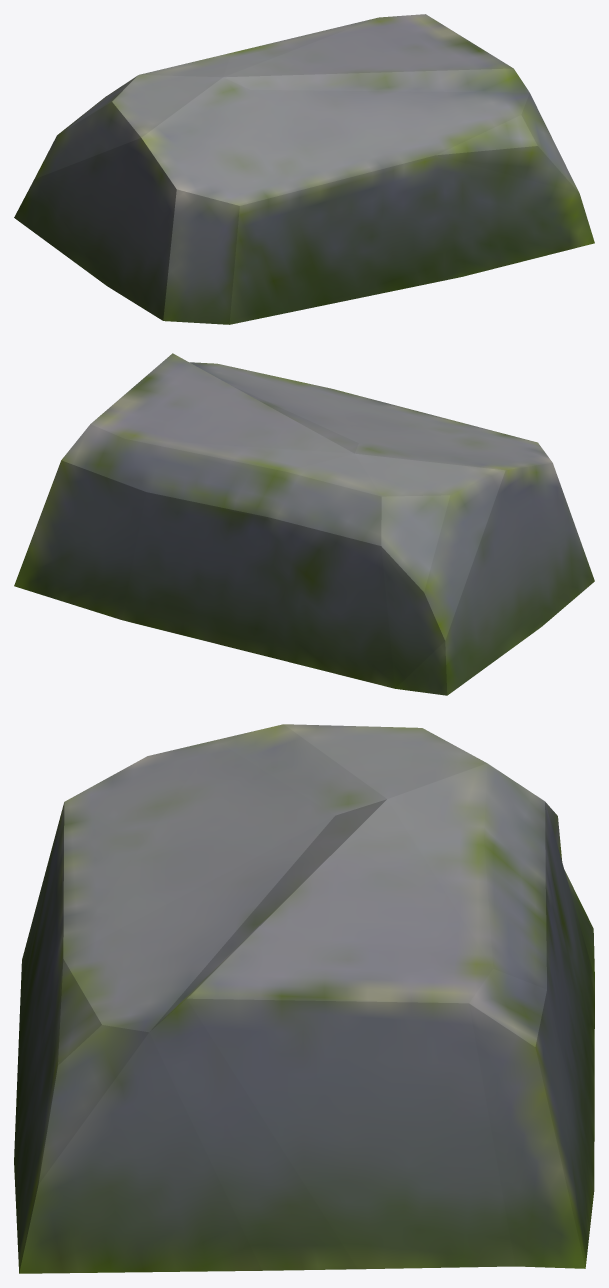
Rendered from pebble2.glb.
3 renders of one model, top to bottom at view 1: azimuth 30°, elevation 25°; view 2: azimuth 150°, elevation 25°; view 3: azimuth 270°, elevation 25°, orthographic. The views are drawn at different scales.
Visible parts, largest first — view 1: Pebble_Square_2; view 2: Pebble_Square_2; view 3: Pebble_Square_2.
Part boxes in pixels (bbox=[...]): Pebble_Square_2: bbox=[14, 14, 594, 324]; Pebble_Square_2: bbox=[14, 353, 594, 695]; Pebble_Square_2: bbox=[14, 724, 594, 1273].
Size of the model in its own units: 0.3911 by 0.1404 by 0.2803.
Materials: 1 (1 with a texture image).
